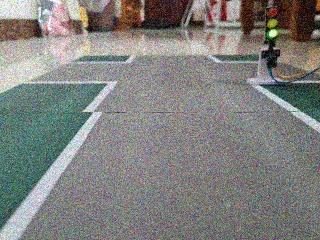green: (260, 5, 286, 55)
